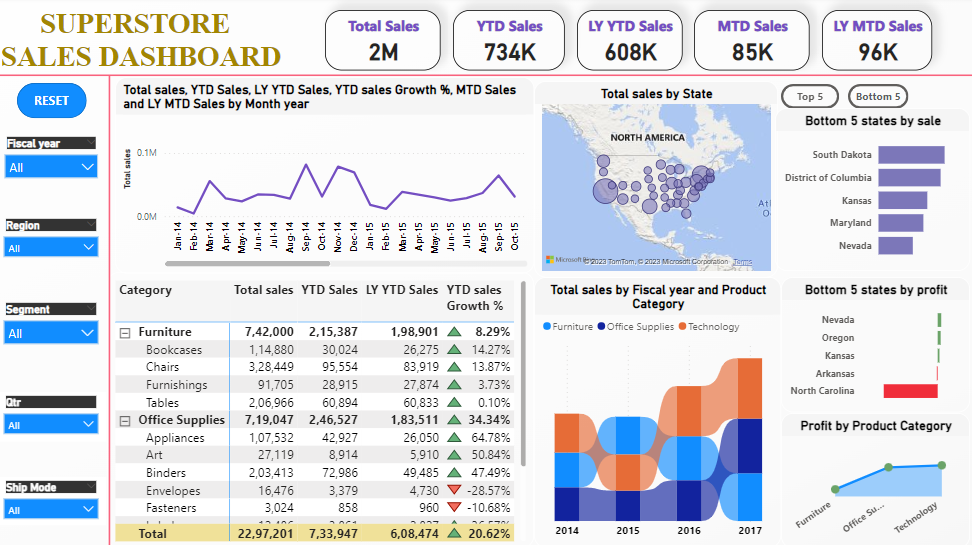

The page's visual inventory and layout, read from the dashboard file:
{"tool":"powerbi","page":{"name":"Dashboard","canvas":[1280,720],"ordinal":0},"visuals":[{"type":"card","title":"Total Sales","fields":{"Values":["MeasuresTable.Total sales"]},"box":[429.6,17.2,151.2,79],"z":0},{"type":"card","title":"YTD Sales","fields":{"Values":["MeasuresTable.YTD Sales"]},"box":[596.8,17.2,146.1,79],"z":1000},{"type":"card","title":"LY YTD Sales","fields":{"Values":["MeasuresTable.LY YTD Sales"]},"box":[758.9,17.2,137.7,79],"z":2000},{"type":"slicer","fields":{"Values":["Date.Fiscal year"]},"box":[1.4,178.2,142.3,70.4],"z":3000},{"type":"card","title":"MTD Sales","fields":{"Values":["MeasuresTable.MTD Sales"]},"box":[912.6,17.2,151.2,79],"z":4000},{"type":"card","title":"LY MTD Sales","fields":{"Values":["MeasuresTable.LY MTD Sales"]},"box":[1079.7,17.2,144.5,79],"z":5000},{"type":"shape","box":[27.3,112.1,90.5,46],"z":6000},{"type":"lineChart","fields":{"Category":["dimDate.Month year"],"Y":["MeasuresTable.Total sales"]},"box":[155.2,104.9,547.5,257.2],"z":7000},{"type":"textbox","box":[1.4,2.9,386.6,106.3],"z":8000},{"type":"shape","box":[0,93.4,1280,18.7],"z":9000},{"type":"map","fields":{"Size":["MeasuresTable.Total sales"],"Category":["dimCustomers.State"]},"box":[702.8,109.2,319,257.2],"z":10000},{"type":"pivotTable","fields":{"Rows":["dimProducts.Category","dimProducts.Sub-Category"],"Values":["MeasuresTable.Total sales","MeasuresTable.YTD Sales","MeasuresTable.LY YTD Sales","MeasuresTable.YTD Growth %"]},"box":[145.1,359.3,557.6,360.7],"z":11000},{"type":"ribbonChart","title":"Total sales by Year and Product Category","fields":{"Category":["dimDate.Fiscal year"],"Y":["MeasuresTable.Total sales"],"Series":["dimProducts.Category"]},"box":[702.8,366.5,323.4,353.5],"z":12000},{"type":"slicer","fields":{"Values":["dimCustomers.Region"]},"box":[0,284.6,143.7,63.2],"z":14000},{"type":"slicer","fields":{"Values":["dimCustomers.Segment"]},"box":[0,395.2,143.7,74.7],"z":15000},{"type":"slicer","fields":{"Values":["dimDate.Qtr"]},"box":[0,515.9,143.7,64.7],"z":16000},{"type":"slicer","fields":{"Values":["factSales.Ship Mode"]},"box":[0,626.6,143.7,63.2],"z":17000},{"type":"shape","box":[143.7,103.5,8.6,616.5],"z":18000},{"type":"barChart","title":"Bottom 5 states by profit","fields":{"Category":["dimCustomers.State"],"Y":["Sum(factSales.Profit)"]},"box":[1026.1,366.5,247.2,176.8],"z":19000},{"type":"stackedAreaChart","title":"Profit by Product Category","fields":{"Category":["dimProducts.Category"],"Y":["Sum(factSales.Profit)"]},"box":[1025.5,543.3,247.1,177.1],"z":20000},{"type":"actionButton","title":"Top 5","box":[1026.1,113.5,76.2,31.6],"z":21000},{"type":"actionButton","title":"Bottom 5","box":[1113.8,113.5,79,31.6],"z":22000},{"type":"barChart","title":"Bottom 5 states by sale","fields":{"Category":["dimCustomers.State"],"Y":["MeasuresTable.Total sales"]},"box":[1018.3,145.2,254.6,213.3],"z":24000}]}

Visuals, with their boxes in screenshot pixels (x1, y1, x2, y2), scaled from the page's 1280x720 canvas onto the 972x545 screenshot:
"Total Sales" card: 326:13:441:73
"YTD Sales" card: 453:13:564:73
"LY YTD Sales" card: 576:13:681:73
slicer - Date.Fiscal year: 1:135:109:188
"MTD Sales" card: 693:13:808:73
"LY MTD Sales" card: 820:13:930:73
shape: 21:85:89:120
lineChart - dimDate.Month year x MeasuresTable.Total sales: 118:79:534:274
textbox: 1:2:295:83
shape: 0:71:971:85
map - MeasuresTable.Total sales x dimCustomers.State: 534:83:776:277
pivotTable - dimProducts.Category x dimProducts.Sub-Category: 110:272:534:544
"Total sales by Year and Product Category" ribbonChart: 534:277:779:544
slicer - dimCustomers.Region: 0:215:109:263
slicer - dimCustomers.Segment: 0:299:109:356
slicer - dimDate.Qtr: 0:391:109:439
slicer - factSales.Ship Mode: 0:474:109:522
shape: 109:78:116:544
"Bottom 5 states by profit" barChart: 779:277:967:411
"Profit by Product Category" stackedAreaChart: 779:411:966:544
"Top 5" actionButton: 779:86:837:110
"Bottom 5" actionButton: 846:86:906:110
"Bottom 5 states by sale" barChart: 773:110:967:271
